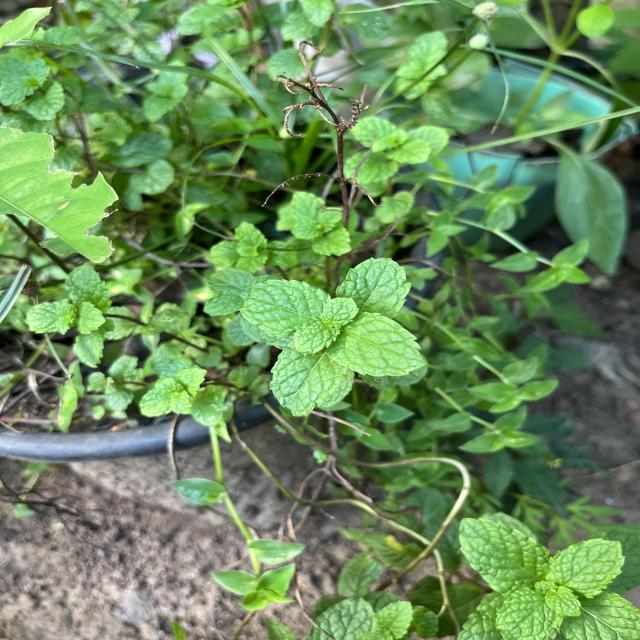Mentha spicata: (326, 311, 428, 377), (268, 340, 348, 418), (238, 278, 331, 338), (335, 256, 412, 319)
